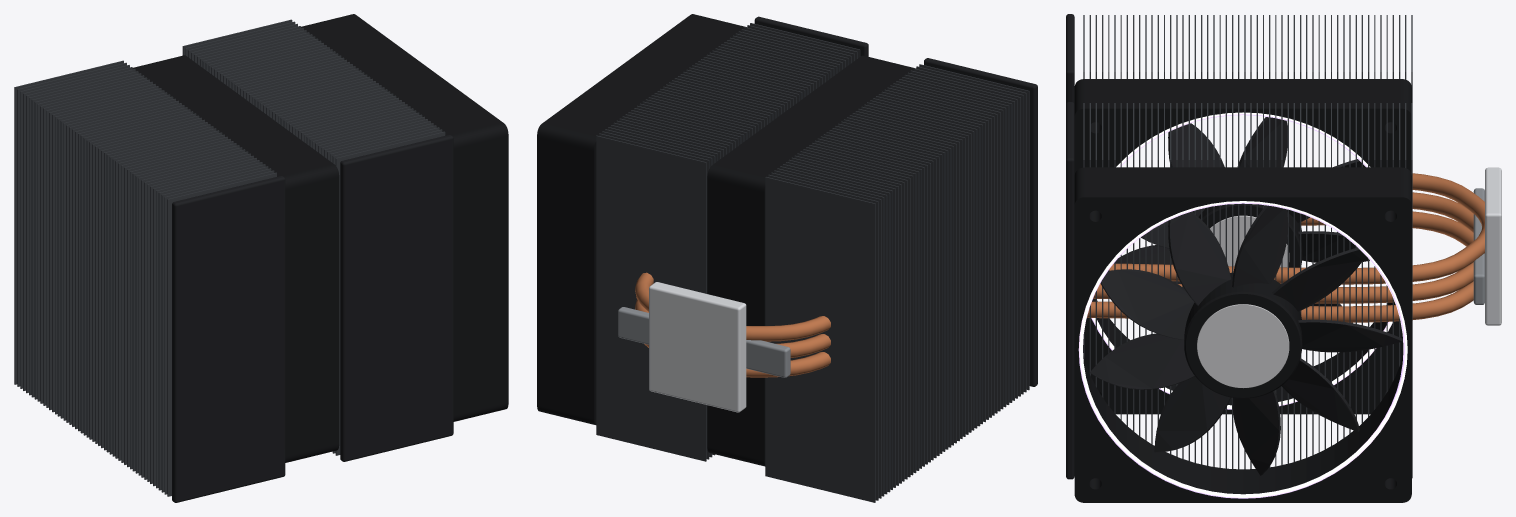
Rendered from 4791310d-9816-4ffe-b606-3c74f7d8609c.glb.
3 renders of one model, left to right at view 1: azimuth 30°, elevation 25°; view 2: azimuth 150°, elevation 25°; view 3: azimuth 270°, elevation 25°, orthographic. The views are drawn at different scales.
Parts seen in each view (by area): view 1: Cooler_FinStack_01, Cooler_TopCover_02, Cooler_TopCover_01, Cooler_Fan_01_Frame, Cooler_Fan_02_Frame, Cooler_FinStack_02; view 2: Cooler_FinStack_01, Cooler_FinStack_02, Cooler_Fan_01_Frame, Cooler_Fan_02_Frame, Cooler_Base, Cooler_TopCover_01, Cooler_Base_Clamp, Cooler_Heatpipe_03, Cooler_TopCover_02, Cooler_Heatpipe_01, Cooler_Heatpipe_02; view 3: Cooler_Fan_01_Frame, Cooler_Fan_01_Blades, Cooler_Fan_02_Frame, Cooler_FinStack_02, Cooler_FinStack_01, Cooler_Fan_02_Blades, Cooler_Fan_01_Label, Cooler_Fan_01_Hub, Cooler_Fan_01_RGBRing, Cooler_Heatpipe_01, Cooler_Heatpipe_03, Cooler_Heatpipe_02 (+7 smaller).
Boxes of the visible parts, x1=… form: Cooler_FinStack_01: x1=14, y1=60, x2=276, y2=496; Cooler_TopCover_02: x1=340, y1=135, x2=453, y2=461; Cooler_TopCover_01: x1=172, y1=176, x2=285, y2=502; Cooler_Fan_01_Frame: x1=301, y1=14, x2=508, y2=421; Cooler_Fan_02_Frame: x1=132, y1=55, x2=339, y2=462; Cooler_FinStack_02: x1=182, y1=19, x2=445, y2=455; Cooler_FinStack_01: x1=765, y1=64, x2=1029, y2=502; Cooler_FinStack_02: x1=596, y1=23, x2=860, y2=461; Cooler_Fan_01_Frame: x1=537, y1=14, x2=746, y2=424; Cooler_Fan_02_Frame: x1=707, y1=55, x2=916, y2=466; Cooler_Base: x1=649, y1=282, x2=746, y2=412; Cooler_TopCover_01: x1=924, y1=58, x2=1037, y2=386; Cooler_Base_Clamp: x1=618, y1=307, x2=790, y2=377; Cooler_Heatpipe_03: x1=635, y1=272, x2=830, y2=341; Cooler_TopCover_02: x1=754, y1=16, x2=868, y2=56; Cooler_Heatpipe_01: x1=644, y1=343, x2=830, y2=377; Cooler_Heatpipe_02: x1=635, y1=299, x2=830, y2=357; Cooler_Fan_01_Frame: x1=1074, y1=167, x2=1411, y2=502; Cooler_Fan_01_Blades: x1=1090, y1=205, x2=1402, y2=475; Cooler_Fan_02_Frame: x1=1074, y1=79, x2=1411, y2=414; Cooler_FinStack_02: x1=1083, y1=103, x2=1412, y2=478; Cooler_FinStack_01: x1=1083, y1=15, x2=1412, y2=102; Cooler_Fan_02_Blades: x1=1115, y1=117, x2=1369, y2=323; Cooler_Fan_01_Label: x1=1197, y1=304, x2=1289, y2=388; Cooler_Fan_01_Hub: x1=1184, y1=272, x2=1302, y2=398; Cooler_Fan_01_RGBRing: x1=1078, y1=201, x2=1407, y2=498; Cooler_Heatpipe_01: x1=1087, y1=211, x2=1473, y2=322; Cooler_Heatpipe_03: x1=1109, y1=173, x2=1484, y2=284; Cooler_Heatpipe_02: x1=1093, y1=192, x2=1473, y2=303.
Size of the model in its own units: 0.1485 by 0.126 by 0.155.
